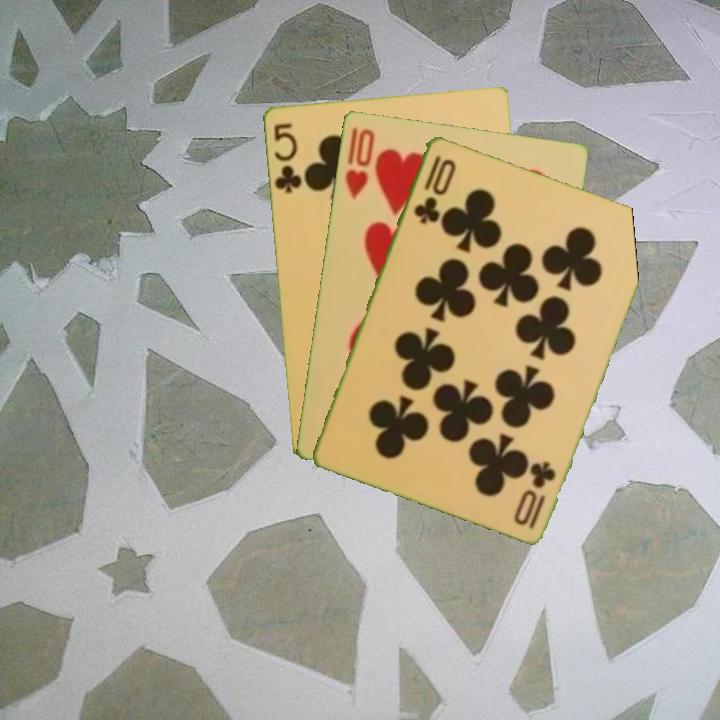10c: (410, 150, 458, 227), (524, 457, 559, 531)
10h: (341, 123, 377, 202)
5c: (270, 119, 304, 196)
